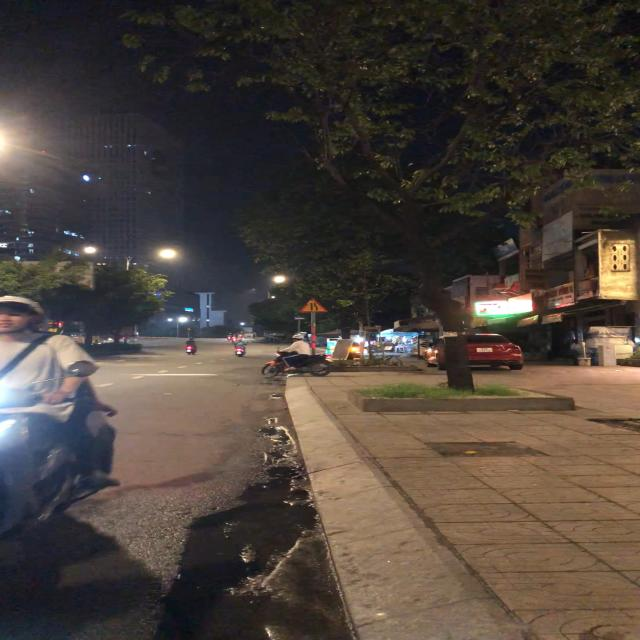Bien bao duong bi thu hep: (296, 297, 331, 314)
